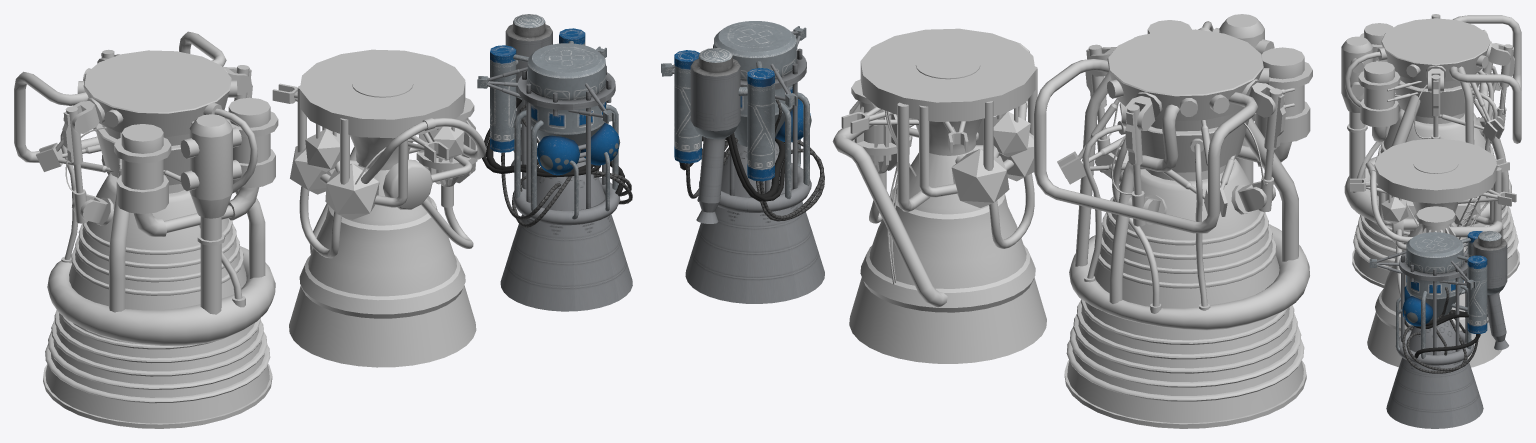
The model's file is 3DTextures.fbx.
The picture shows the model from 3 angles, left to right: view 1: azimuth 30°, elevation 25°; view 2: azimuth 150°, elevation 25°; view 3: azimuth 270°, elevation 25°; orthographic projection. The views are drawn at different scales.
Parts seen in each view (by area): view 1: Engine1, Engine2, Engine3; view 2: Engine1, Engine2, Engine3; view 3: Engine1, Engine3, Engine2.
Part boxes in pixels (x1,y1,x2,y2): Engine1: (14,31,278,428); Engine2: (272,49,486,367); Engine3: (477,14,632,311); Engine1: (1034,14,1312,428); Engine2: (832,28,1046,363); Engine3: (661,21,824,303); Engine1: (1341,14,1521,287); Engine3: (1369,231,1508,428); Engine2: (1350,138,1516,367).
Bounding box in the file's own units: 1243 × 626 × 462.
